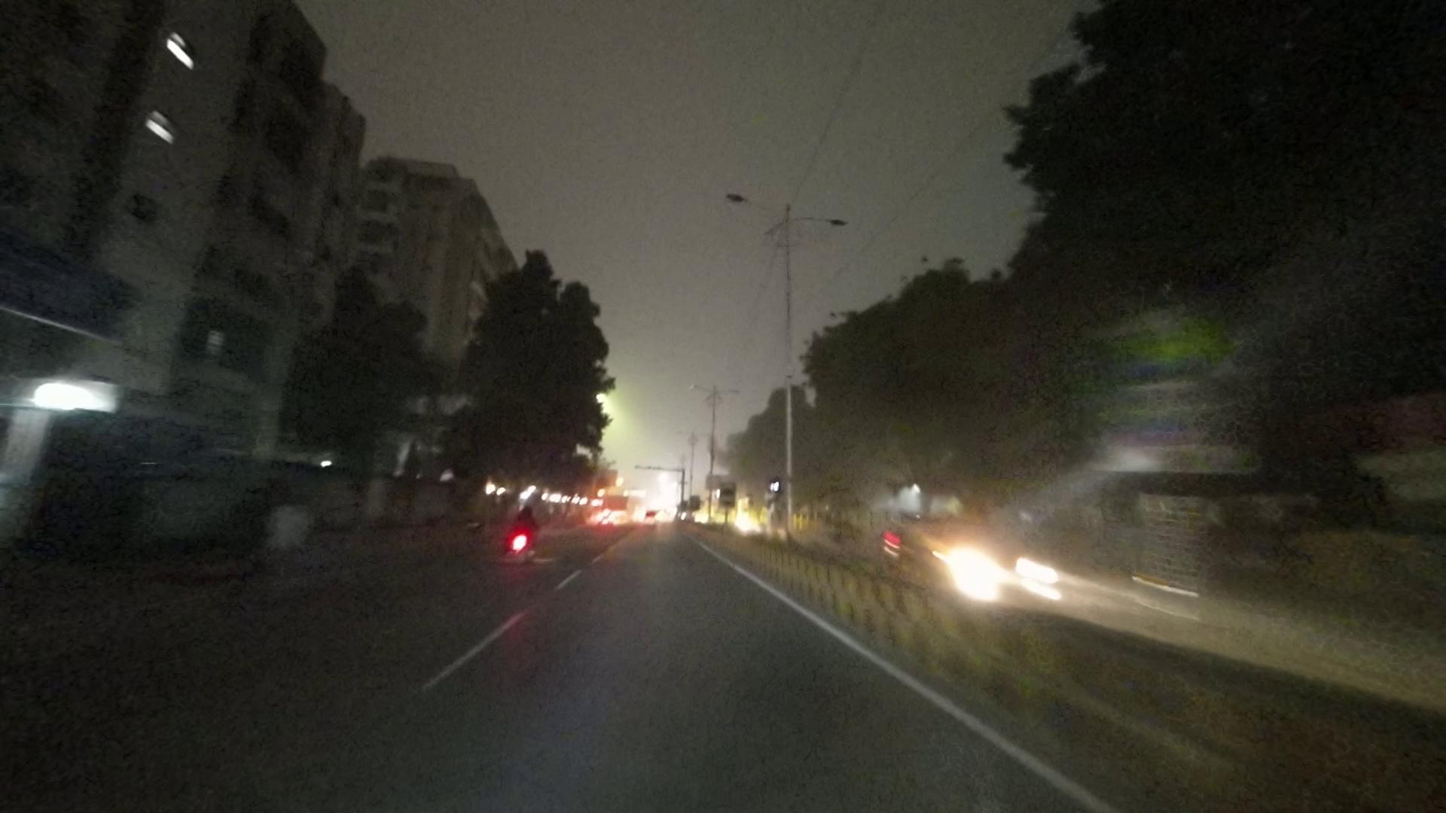streetlight: (723, 191, 780, 220), (789, 213, 850, 232)
